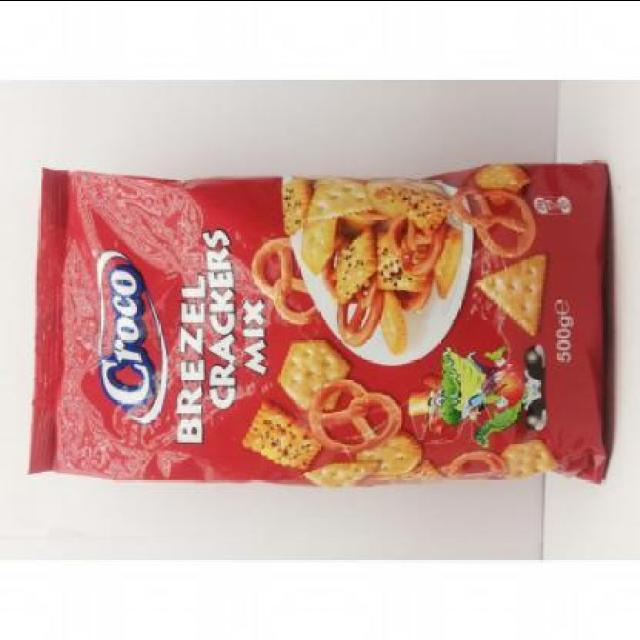Salatini: (18, 152, 614, 484)
